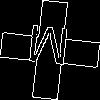M: (25, 25, 71, 74)
